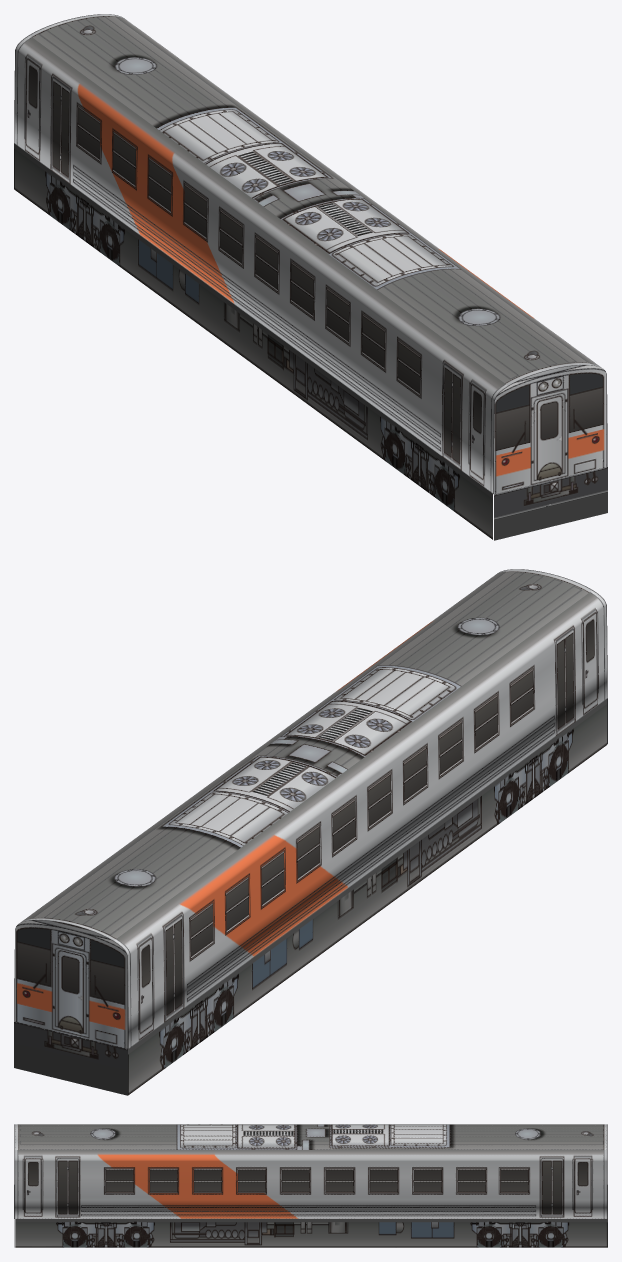
File: car1.glb
3 views of the same model, one above another, from view 1: azimuth 30°, elevation 25°; view 2: azimuth 150°, elevation 25°; view 3: azimuth 270°, elevation 25° (orthographic). The views are drawn at different scales.
Parts seen in each view (by area): view 1: jr-shikoku-kiha54-car1; view 2: jr-shikoku-kiha54-car1; view 3: jr-shikoku-kiha54-car1.
Boxes of the visible parts, x1,y1,x2,y2 form: jr-shikoku-kiha54-car1: [14, 14, 607, 540]; jr-shikoku-kiha54-car1: [14, 569, 607, 1095]; jr-shikoku-kiha54-car1: [14, 1124, 607, 1247].
Bounding box in the file's own units: 2.92 × 3.85 × 21.33.
Materials: 9 (8 with a texture image).
